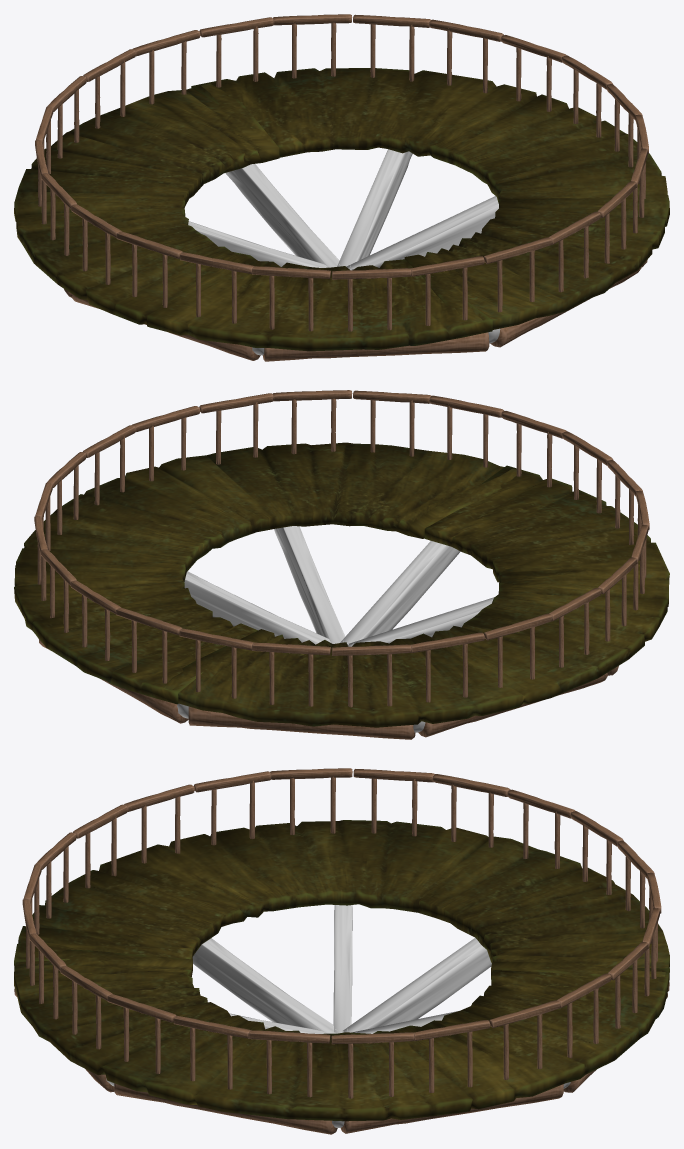
File: SM_platform_supported_fenced.fbx
The picture shows the model from 3 angles, top to bottom: view 1: azimuth 30°, elevation 25°; view 2: azimuth 150°, elevation 25°; view 3: azimuth 270°, elevation 25°; orthographic projection. The views are drawn at different scales.
Parts seen in each view (by area): view 1: platform_supported_fenced; view 2: platform_supported_fenced; view 3: platform_supported_fenced.
Boxes of the visible parts, x1,y1,x2,y2 form: platform_supported_fenced: (14, 14, 669, 361); platform_supported_fenced: (14, 390, 669, 739); platform_supported_fenced: (14, 768, 669, 1134).
Size of the model in its own units: 1672 by 429 by 1599.
